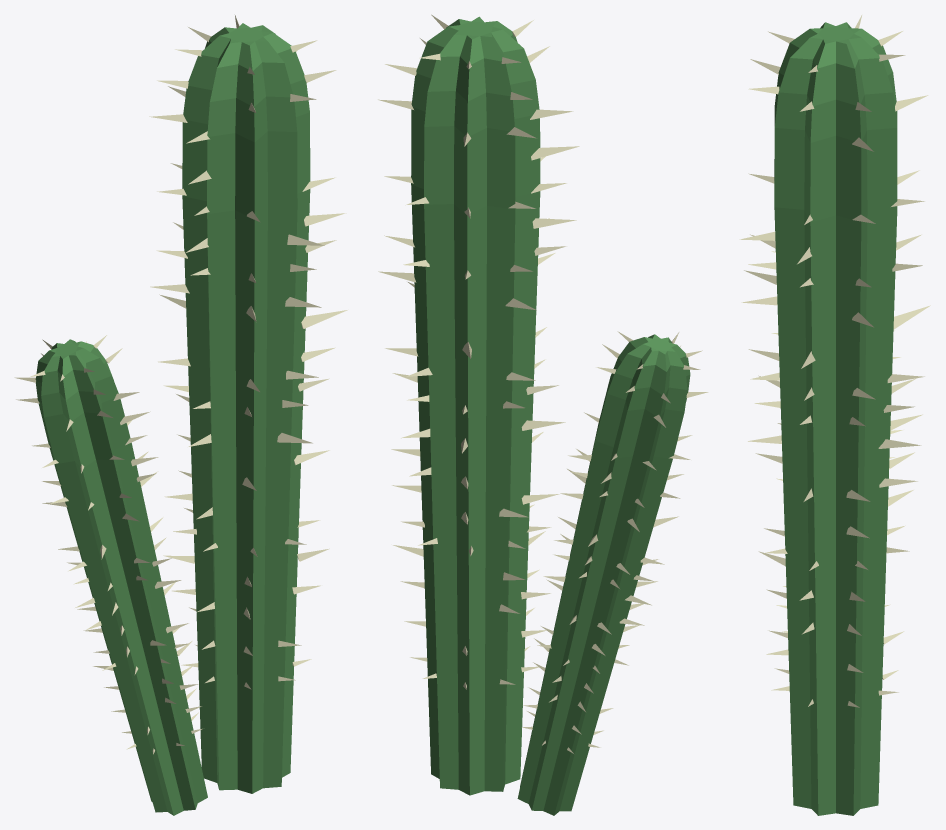
Rendered from Big_Cactus_002.fbx.
3 views of the same model, side by side, from view 1: azimuth 30°, elevation 25°; view 2: azimuth 150°, elevation 25°; view 3: azimuth 270°, elevation 25° (orthographic). The views are drawn at different scales.
Visible parts, largest first — view 1: Big_Cactus_002; view 2: Big_Cactus_002; view 3: Big_Cactus_002.
Part boxes in pixels (x1,y1,x2,y2): Big_Cactus_002: (14,15,347,815); Big_Cactus_002: (378,14,708,815); Big_Cactus_002: (739,15,930,815).
Size of the model in its own units: 1.29 by 3.03 by 0.6815.
